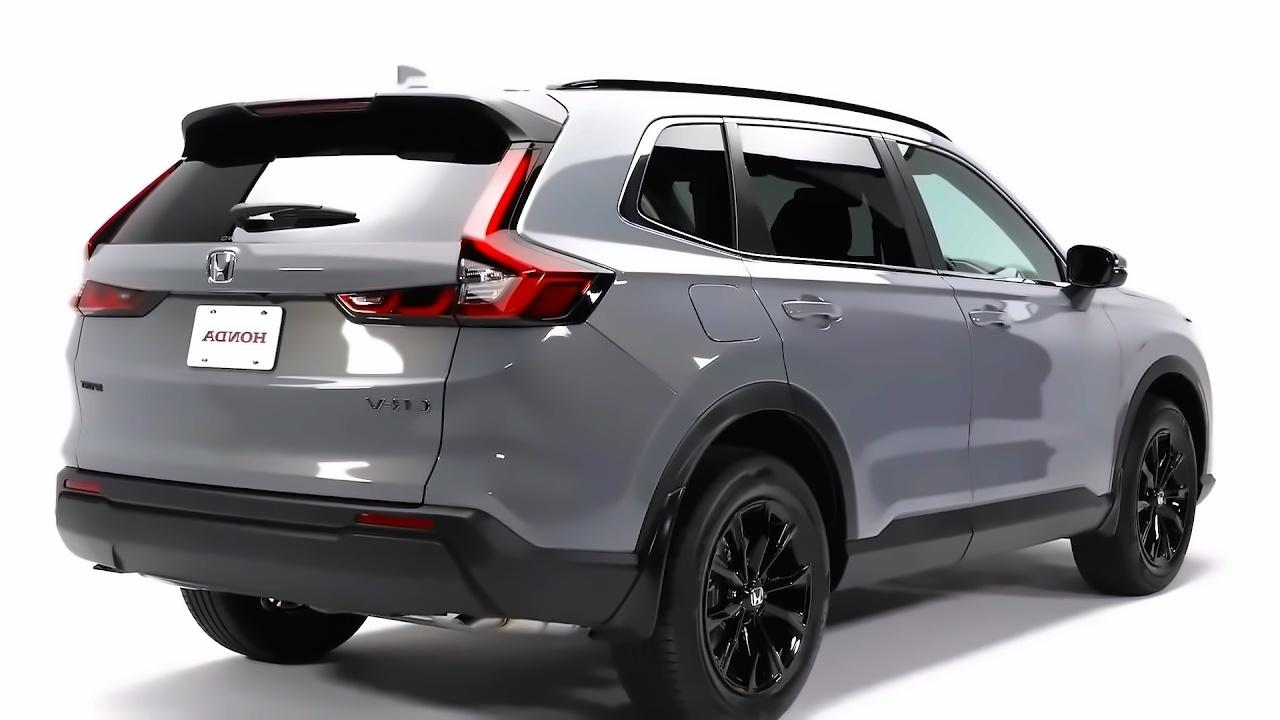Car boot: (58, 96, 528, 511)
Driver-s door - -F-R-: (918, 106, 1123, 522)
Fender - -F-R-: (1108, 268, 1192, 504)
Front bumper: (1188, 373, 1246, 520)
Headlight - -L-: (62, 146, 199, 326)
Headlight - -R-: (320, 130, 624, 333)
Passenger-s door - -R-R-: (732, 94, 975, 548)
Rear bumper: (18, 349, 695, 662), (574, 195, 810, 432)
Side bumper - -R-: (820, 474, 1121, 598)
Side mirror - -R-: (1056, 224, 1139, 320)
